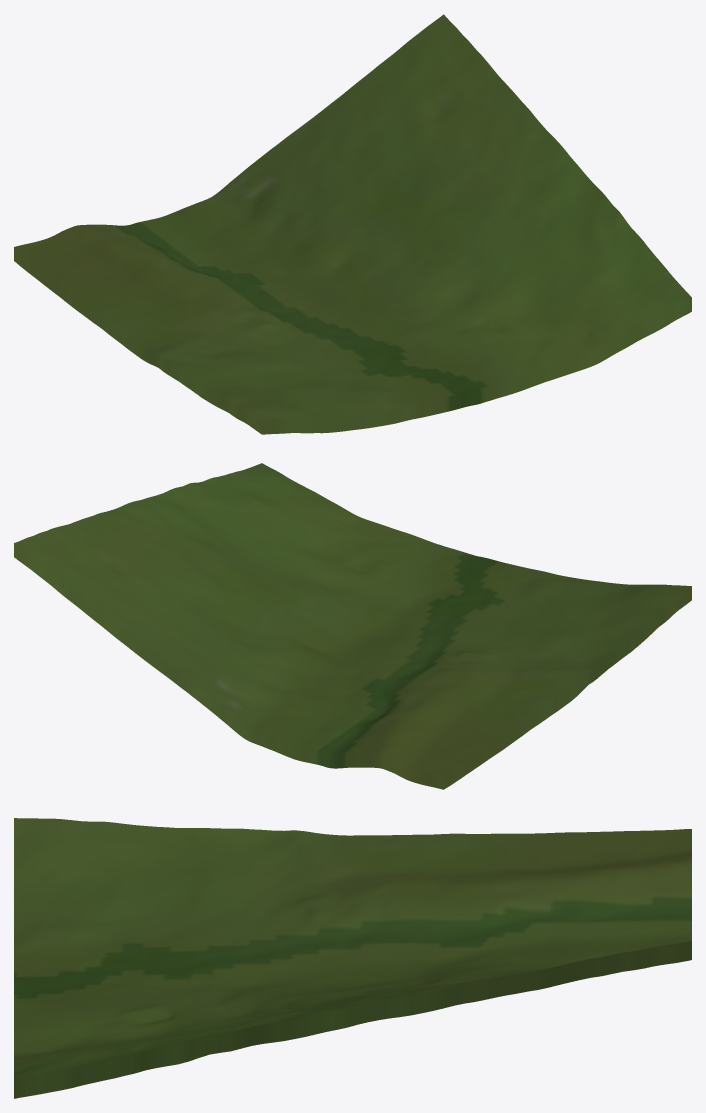
File: terrain_9_-14.glb
The picture shows the model from 3 angles, top to bottom: view 1: azimuth 30°, elevation 25°; view 2: azimuth 150°, elevation 25°; view 3: azimuth 270°, elevation 25°; orthographic projection. The views are drawn at different scales.
Parts seen in each view (by area): view 1: terrain_9_-14; view 2: terrain_9_-14; view 3: terrain_9_-14.
Part boxes in pixels (x1,y1,x2,y2): terrain_9_-14: [14, 14, 691, 434]; terrain_9_-14: [14, 463, 691, 789]; terrain_9_-14: [14, 818, 691, 1098].
Size of the model in its own units: 256 by 88.95 by 256.
